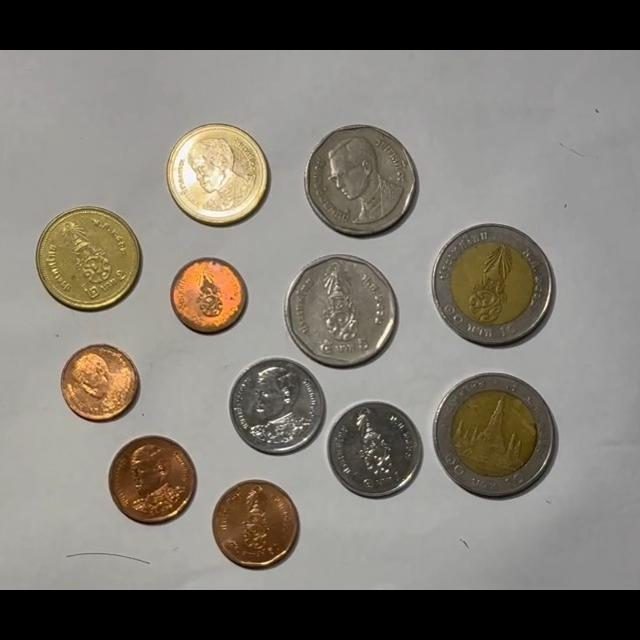1-baht: (327, 401, 423, 498), (229, 358, 325, 455)
10-baht: (432, 373, 557, 498), (431, 223, 554, 345)
2-baht: (36, 207, 140, 312), (166, 123, 270, 226)
25-satang: (61, 345, 140, 422), (170, 257, 247, 333)
5-baht: (284, 254, 399, 367), (304, 124, 419, 236)
50-satang: (211, 480, 300, 568), (109, 436, 196, 523)
